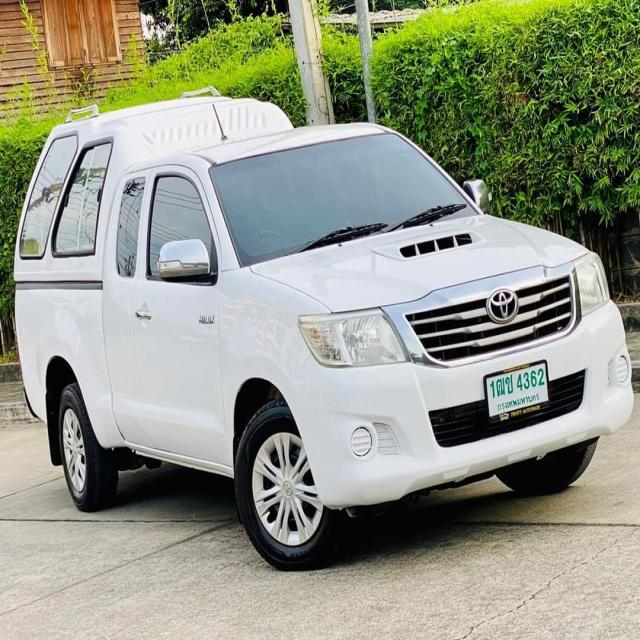license_plate: (481, 358, 552, 428)
